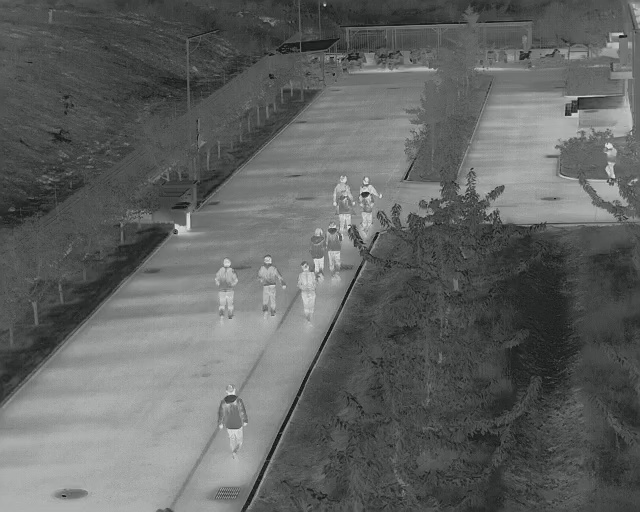person: (216, 382, 251, 460), (255, 254, 287, 321), (296, 261, 325, 328), (215, 258, 239, 321), (325, 220, 343, 285), (356, 185, 378, 236), (333, 175, 354, 224), (308, 224, 325, 284), (602, 141, 621, 182)
